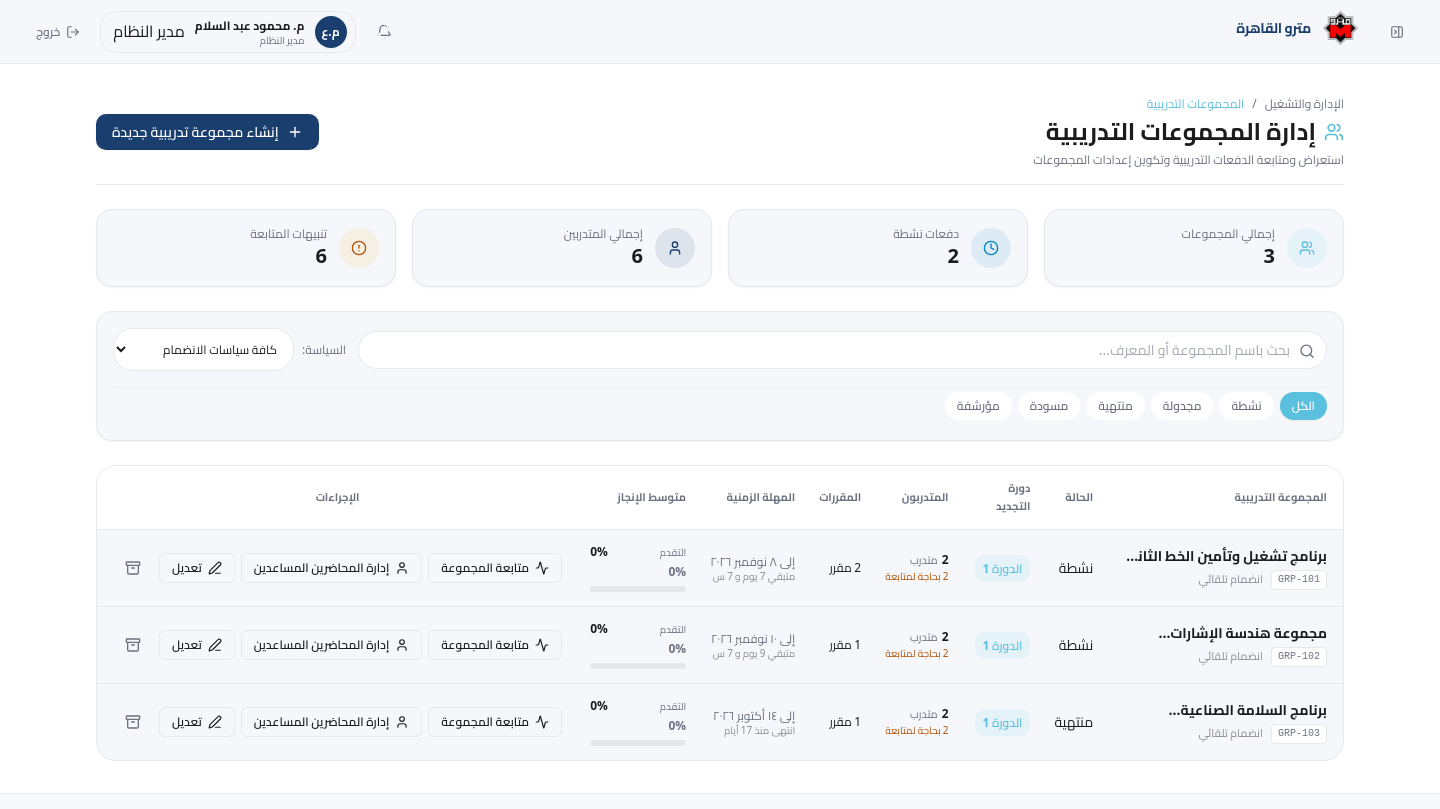
Increment 10 — Phase 8: Group Monitoring Dashboard & Historical Cycle Reporting › 1. Dashboard Entry Points and Authorization › navigates to monitoring dashboard from groups list action button
The image size is (1440, 809).
Expected: the table with test id "admin-groups-table" is shown, [97,466,1343,760]
Click the button with test id "monitor-group-btn-GRP-101".
click(495, 568)  # box [428,553,562,583]
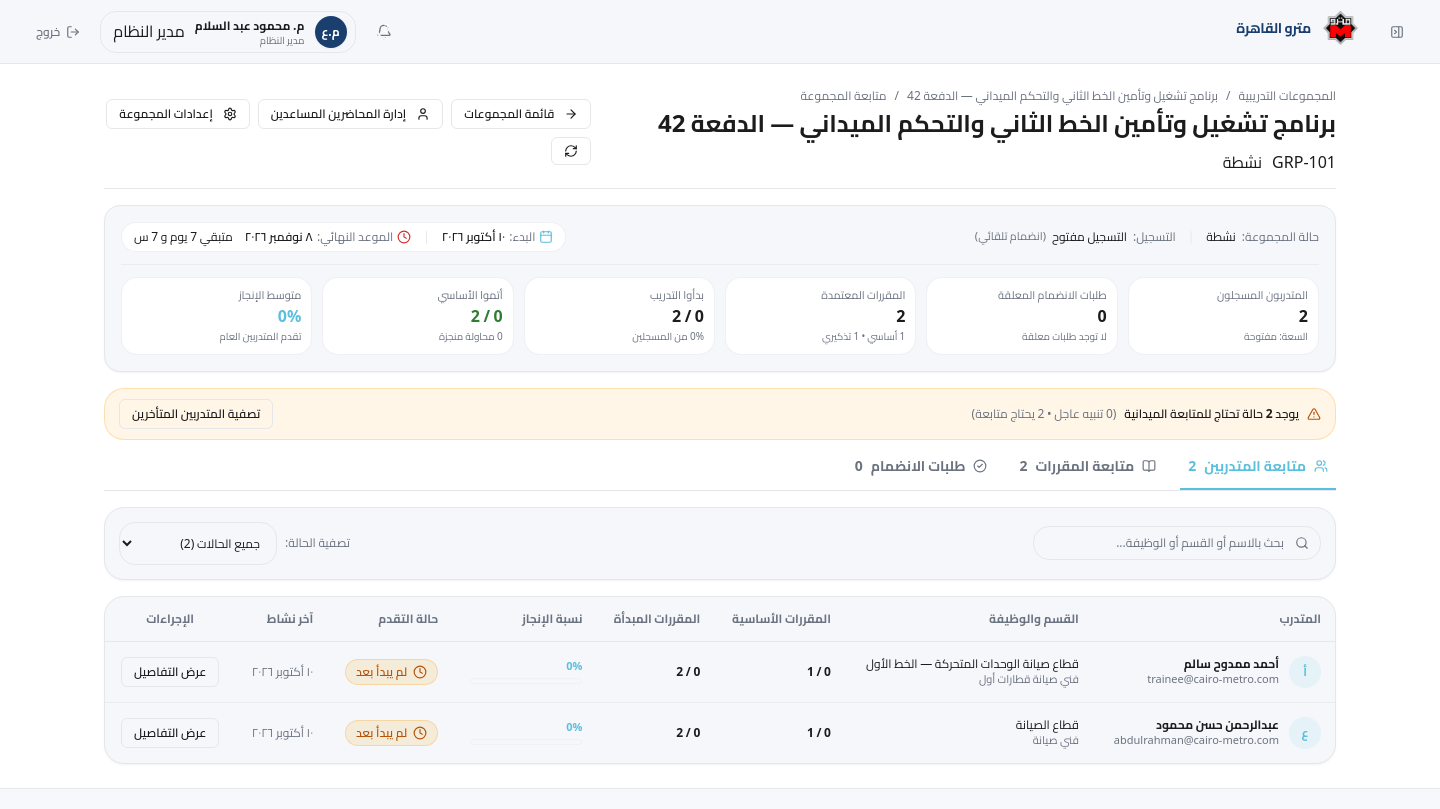
Now the element with test id "group-countdown-strip" is shown, box [121,222,1319,265]
Now the heading shows "برنامج تشغيل وتأمين الخط الثاني", box [658,101,1336,146]
